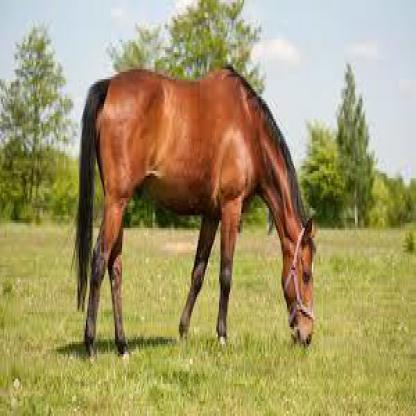horse: (72, 57, 318, 359)
